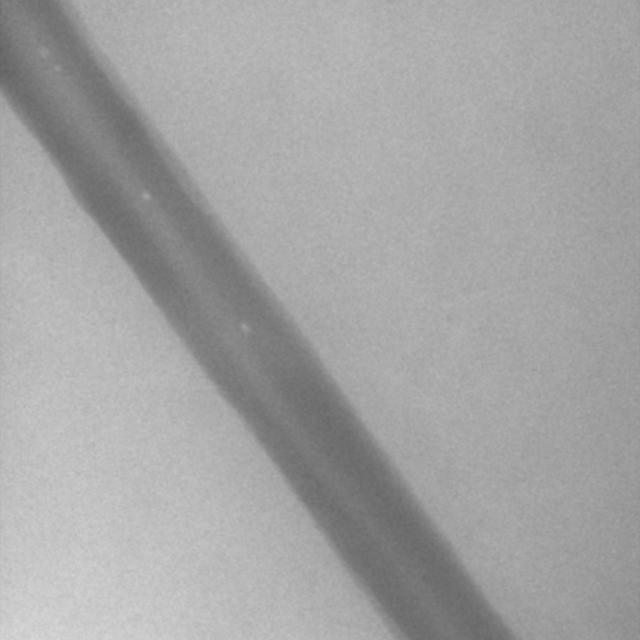air-hole: (140, 184, 153, 202), (238, 320, 250, 336), (40, 44, 52, 58), (53, 64, 62, 72)
